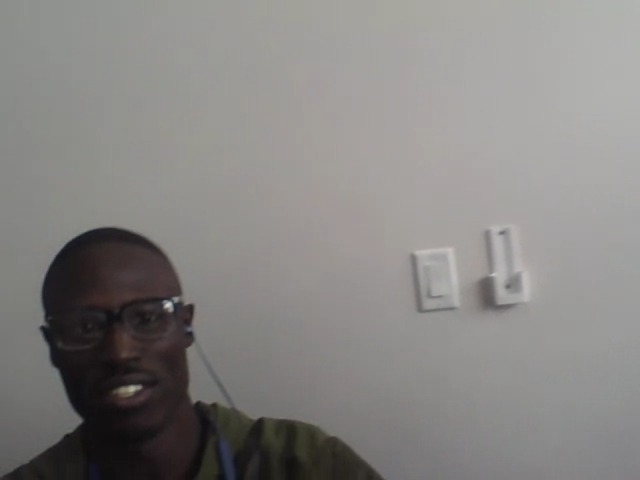face: (44, 241, 189, 446)
